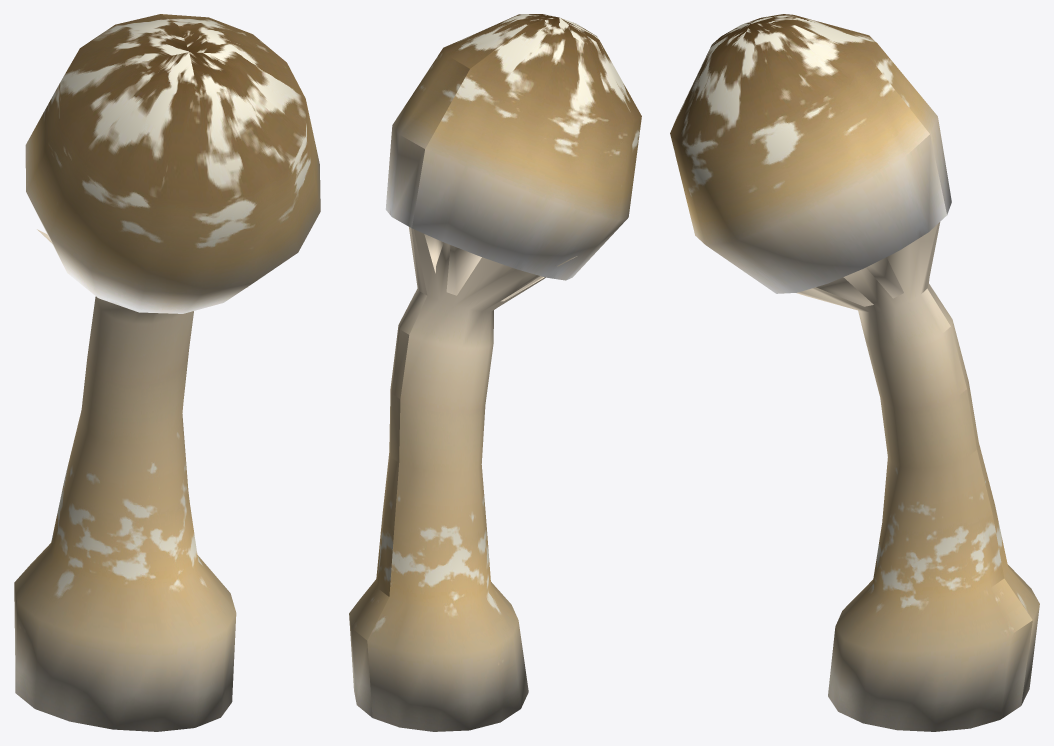
Rendered from mushrooms01_small.glb.
3 views of the same model, side by side, from view 1: azimuth 30°, elevation 25°; view 2: azimuth 150°, elevation 25°; view 3: azimuth 270°, elevation 25° (orthographic). The views are drawn at different scales.
Parts seen in each view (by area): view 1: Mushroom_2; view 2: Mushroom_2; view 3: Mushroom_2.
Part boxes in pixels (box(x1,y1,x2,y2)): Mushroom_2: box(14, 14, 320, 731); Mushroom_2: box(349, 14, 641, 731); Mushroom_2: box(670, 14, 1039, 731).
Size of the model in its own units: 79.59 by 221 by 113.
1 material, 1 textured.
